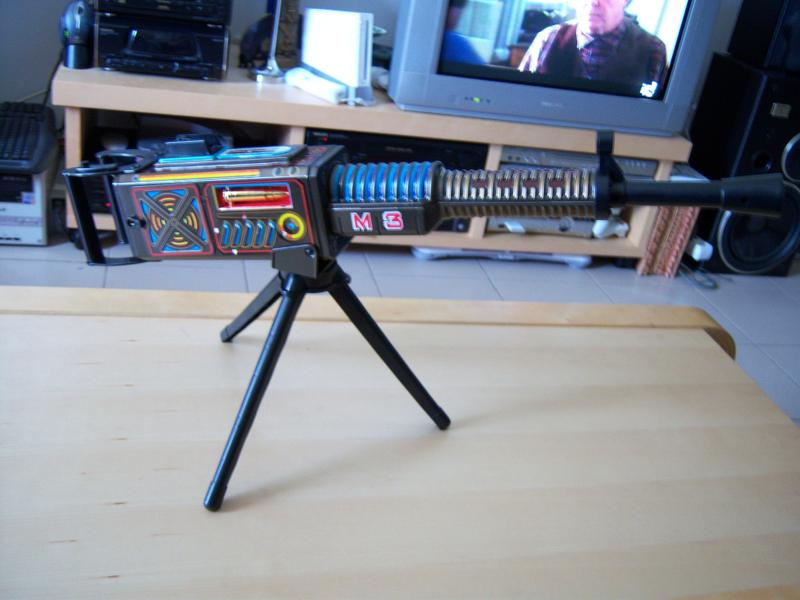rifle: (17, 90, 778, 495)
